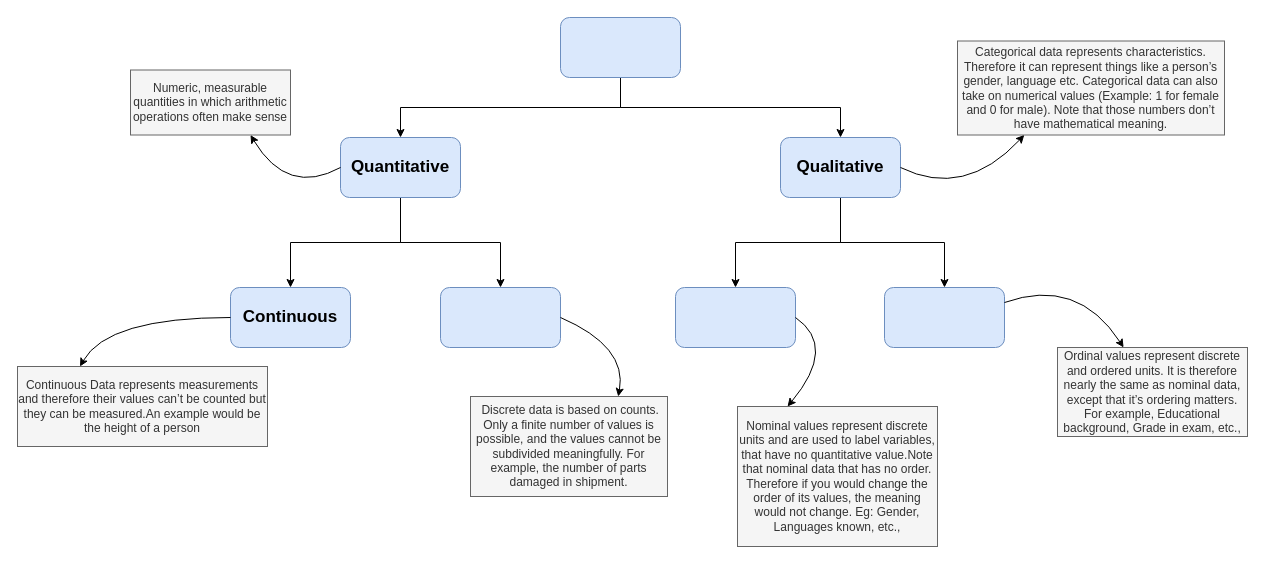
This 1265x564 diagram has some shape labels left out. Here are the shapes that lost their labels. From the top down, the centre of each, then its label:
At [620,47]: "Data types".
At [500,317]: "Discrete".
At [735,317]: "Ordinal".
At [944,317]: "Nominal".
